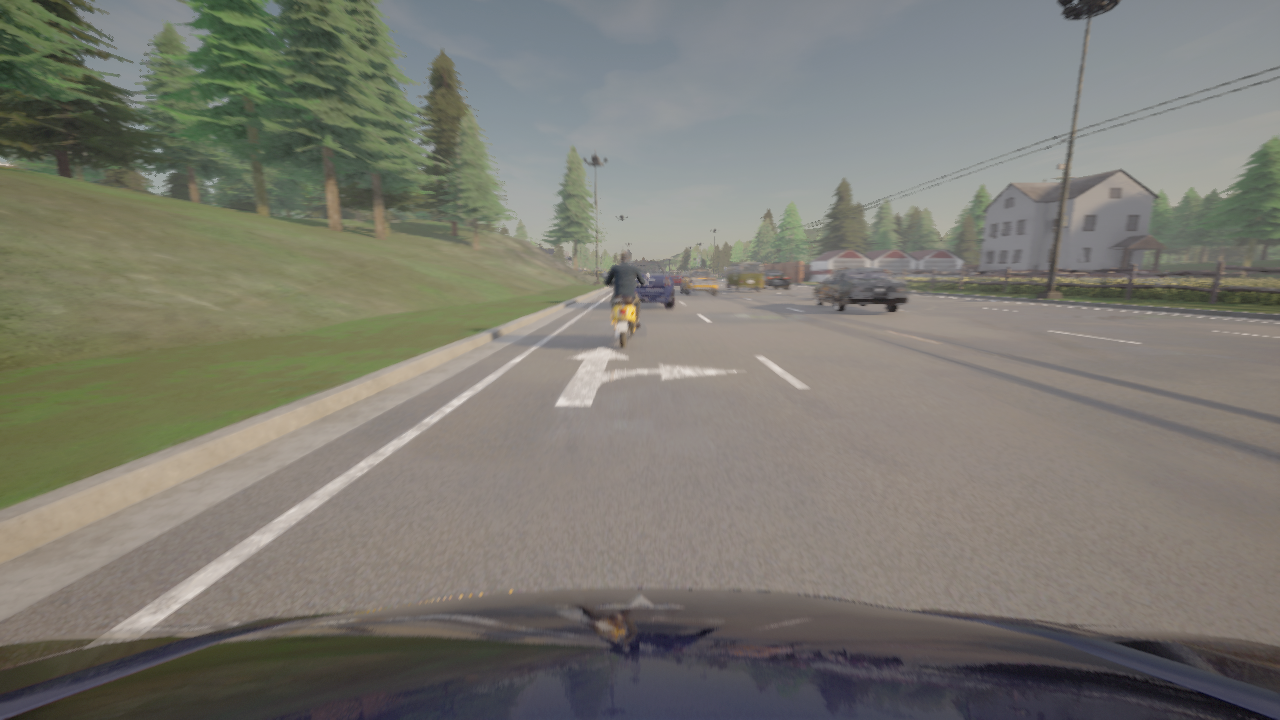cyclist: (0, 588, 1279, 719), (813, 268, 908, 312), (602, 272, 650, 347), (629, 257, 673, 307), (725, 262, 763, 291), (681, 267, 717, 294), (762, 269, 790, 289), (669, 271, 684, 284), (684, 271, 688, 276)
